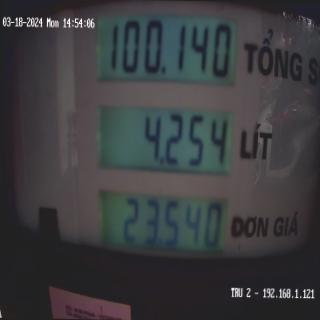screen: (89, 2, 242, 284)
